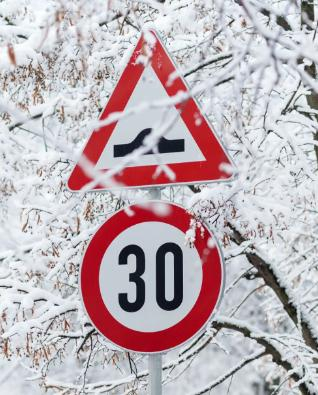obstructed_road_sign: (68, 30, 237, 191), (79, 199, 226, 355)
